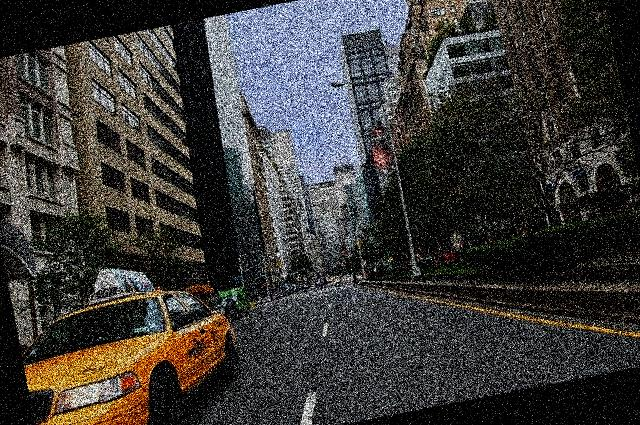taxi: (13, 282, 237, 425)
